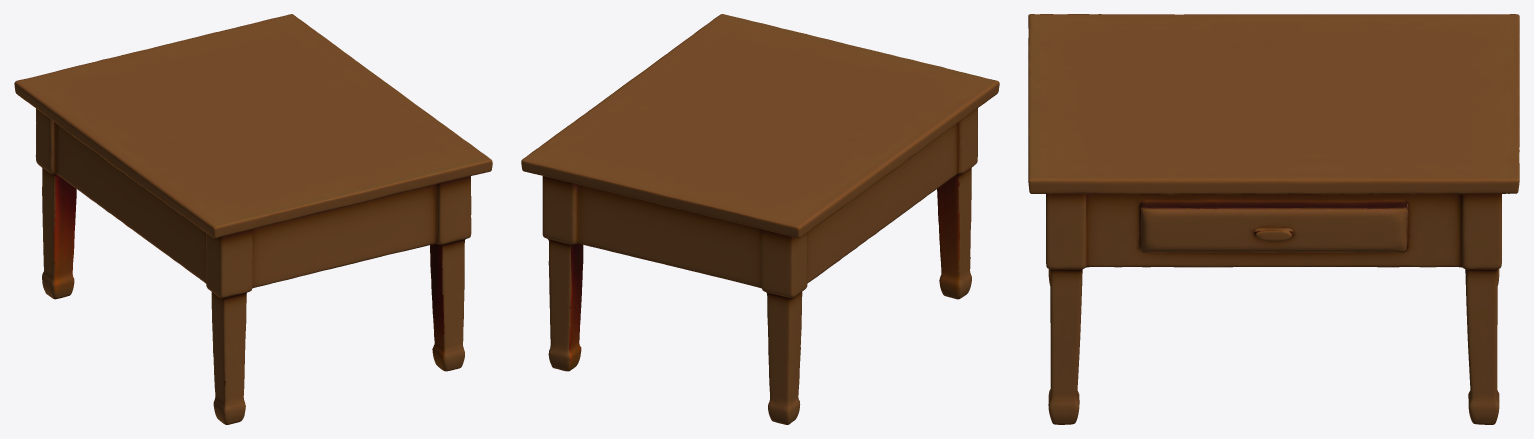
The model's file is wooden+table+3d+model.fbx.
3 views of the same model, side by side, from view 1: azimuth 30°, elevation 25°; view 2: azimuth 150°, elevation 25°; view 3: azimuth 270°, elevation 25° (orthographic). The views are drawn at different scales.
Visible parts, largest first — view 1: tripo_node_14587152; view 2: tripo_node_14587152; view 3: tripo_node_14587152.
Boxes of the visible parts, x1,y1,x2,y2 form: tripo_node_14587152: (14,14,492,424); tripo_node_14587152: (521,14,999,424); tripo_node_14587152: (1028,14,1519,424).
Size of the model in its own units: 0.8026 by 0.5796 by 0.9994.
1 material, 1 textured.
